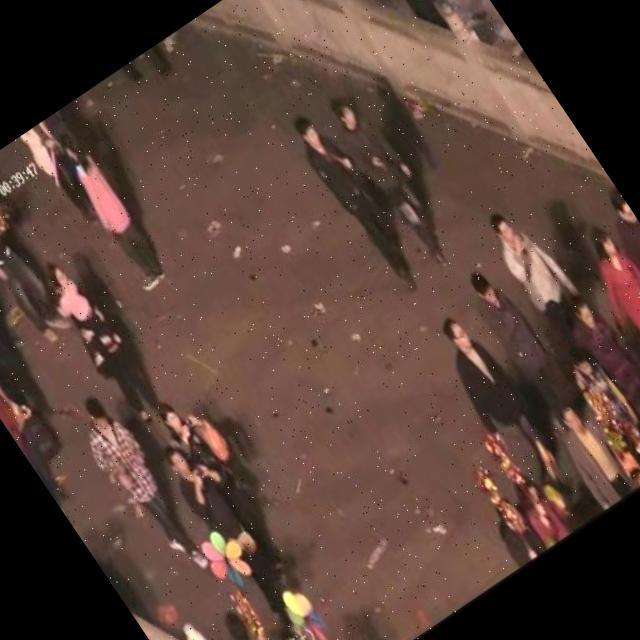person: (276, 94, 438, 302), (59, 383, 219, 588), (422, 300, 580, 500), (314, 80, 470, 280), (152, 424, 308, 622), (155, 389, 305, 586), (29, 245, 171, 428), (44, 123, 180, 298), (455, 258, 582, 417), (0, 169, 81, 356), (474, 197, 582, 326), (566, 214, 640, 393), (536, 389, 640, 514), (553, 287, 640, 433), (599, 190, 640, 321)
